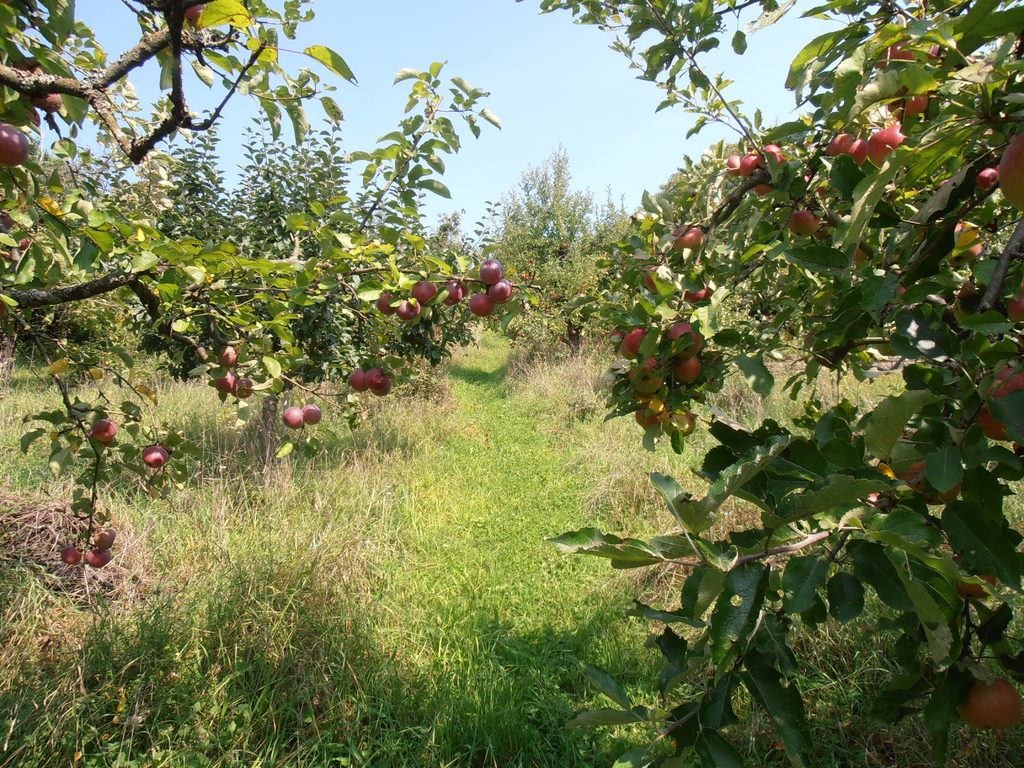Apple: (725, 35, 945, 264), (608, 220, 712, 437), (376, 259, 512, 322), (954, 673, 1023, 731), (892, 453, 965, 505), (977, 364, 1023, 442), (951, 550, 1000, 600), (1000, 126, 1023, 211), (0, 121, 29, 168), (953, 224, 979, 267), (1008, 281, 1023, 327), (139, 444, 167, 467), (281, 404, 304, 431), (92, 528, 117, 549), (973, 168, 999, 188), (81, 549, 113, 565), (214, 369, 235, 392), (94, 420, 119, 439), (218, 346, 239, 368), (366, 368, 387, 389), (186, 3, 203, 27), (59, 546, 79, 565), (371, 374, 389, 395), (235, 376, 250, 400), (348, 368, 364, 390), (304, 404, 322, 423), (896, 284, 907, 295)
